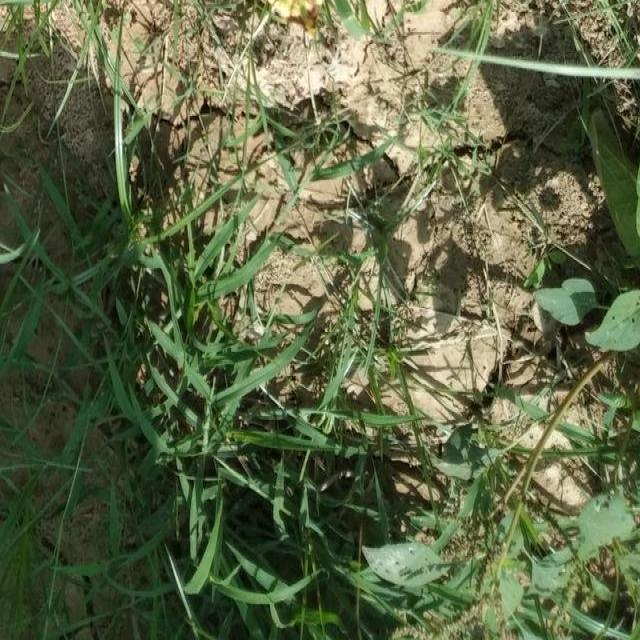weed: (7, 216, 333, 640), (406, 515, 628, 640)
